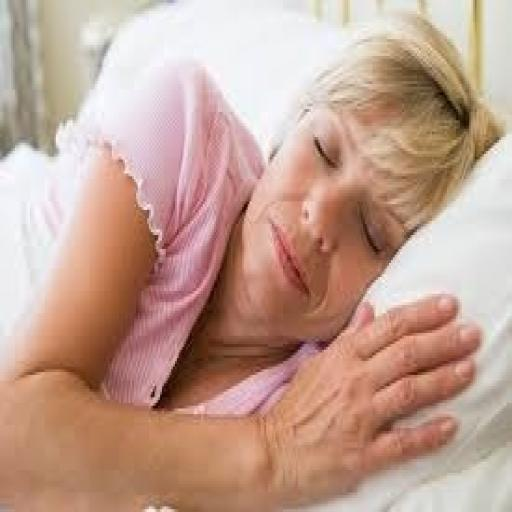sleeping: (0, 8, 505, 510)
